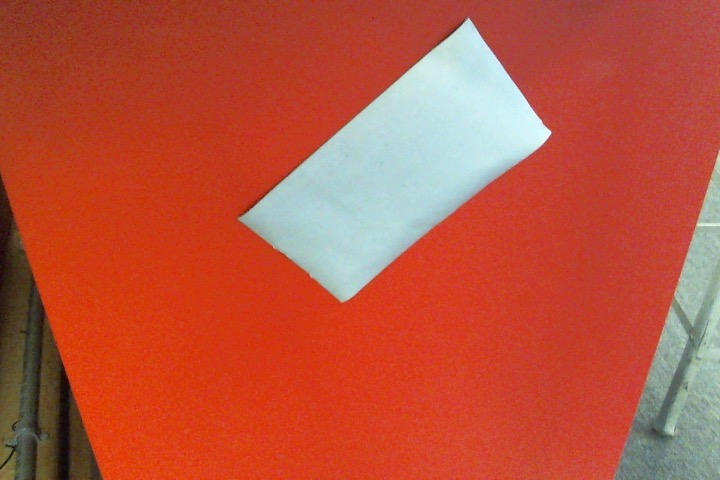Tape: (236, 16, 553, 302)
